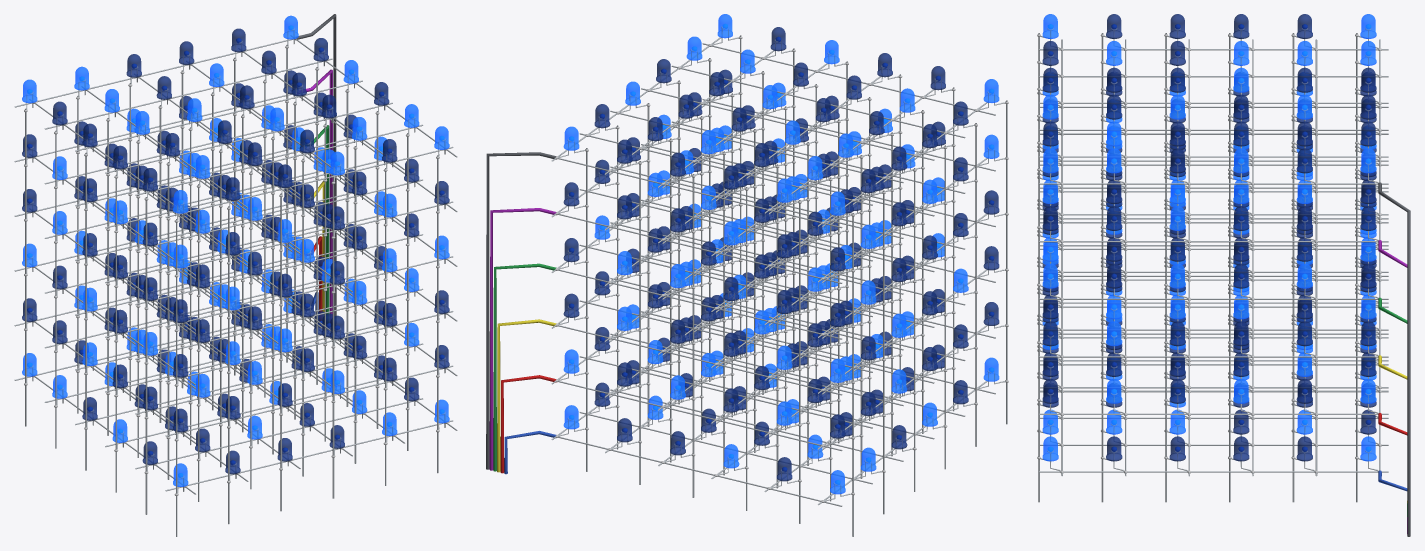
File: led-cube-6x6x6.glb
The picture shows the model from 3 angles, left to right: view 1: azimuth 30°, elevation 25°; view 2: azimuth 150°, elevation 25°; view 3: azimuth 270°, elevation 25°; orthographic projection. The views are drawn at different scales.
Visible parts, largest first — view 1: Column [4,1] | rigid vertical conductor, Column [1,2] | rigid vertical conductor, Column [5,2] | rigid vertical conductor, Layer 6 | insulated control take-off, Column [2,3] | rigid vertical conductor, Column [6,3] | rigid vertical conductor, Column [6,4] | rigid vertical conductor, Column [3,5] | rigid vertical conductor, Layer 5 | insulated control take-off, Column [1,5] | rigid vertical conductor, Column [1,6] | rigid vertical conductor, Column [2,1] | rigid vertical conductor (+24 smaller); view 2: Layer 6 | insulated control take-off, Layer 5 | insulated control take-off, Layer 4 | insulated control take-off, Column [4,6] | rigid vertical conductor, Layer 3 | insulated control take-off, Column [3,5] | rigid vertical conductor, Column [2,4] | rigid vertical conductor, Column [6,4] | rigid vertical conductor, Column [1,1] | rigid vertical conductor, Column [1,5] | rigid vertical conductor, Column [1,2] | rigid vertical conductor, Column [1,6] | rigid vertical conductor (+6 smaller); view 3: Layer 6 | insulated control take-off, Column [6,2] | rigid vertical conductor, Column [6,5] | rigid vertical conductor, L1 | Y bus crosslink 3, L1 | Y bus crosslink 6, L6 | Y bus crosslink 6, L3 | Y bus crosslink 6, L2 | Y bus crosslink 6, L4 | Y bus crosslink 6, L5 | Y bus crosslink 6, Column [6,1] | rigid vertical conductor, Column [6,6] | rigid vertical conductor (+31 smaller).
Part boxes in pixels (x1,y1,x2,y2): Column [4,1] | rigid vertical conductor: (332,180,334,498); Column [1,2] | rigid vertical conductor: (145,197,147,514); Column [5,2] | rigid vertical conductor: (354,146,356,463); Layer 6 | insulated control take-off: (295,14,336,315); Column [2,3] | rigid vertical conductor: (167,162,169,479); Column [6,3] | rigid vertical conductor: (376,111,378,428); Column [6,4] | rigid vertical conductor: (346,89,348,406); Column [3,5] | rigid vertical conductor: (159,105,161,422); Layer 5 | insulated control take-off: (297,69,332,319); Column [1,5] | rigid vertical conductor: (55,130,56,448); Column [1,6] | rigid vertical conductor: (25,108,26,426); Column [2,1] | rigid vertical conductor: (228,206,229,524); Layer 6 | insulated control take-off: (486,152,556,469); Layer 5 | insulated control take-off: (489,208,556,470); Layer 4 | insulated control take-off: (493,263,556,471); Column [4,6] | rigid vertical conductor: (692,174,694,497); Layer 3 | insulated control take-off: (497,319,556,472); Column [3,5] | rigid vertical conductor: (776,164,778,488); Column [2,4] | rigid vertical conductor: (860,155,862,478); Column [6,4] | rigid vertical conductor: (647,103,649,426); Column [1,1] | rigid vertical conductor: (1006,100,1007,424); Column [1,5] | rigid vertical conductor: (883,190,884,514); Column [1,2] | rigid vertical conductor: (975,123,976,446); Column [1,6] | rigid vertical conductor: (852,213,853,536); Layer 6 | insulated control take-off: (1378,182,1410,536); Column [6,2] | rigid vertical conductor: (1101,167,1103,502); Column [6,5] | rigid vertical conductor: (1292,167,1294,502); L1 | Y bus crosslink 3: (1040,390,1388,392); L1 | Y bus crosslink 6: (1039,471,1388,472); L6 | Y bus crosslink 6: (1039,183,1388,184); L3 | Y bus crosslink 6: (1039,356,1388,357); L2 | Y bus crosslink 6: (1039,413,1388,414); L4 | Y bus crosslink 6: (1039,298,1388,299); L5 | Y bus crosslink 6: (1039,241,1388,242); Column [6,1] | rigid vertical conductor: (1038,167,1039,502); Column [6,6] | rigid vertical conductor: (1356,167,1357,502).
Size of the model in its own units: 0.1419 by 0.1367 by 0.1293.
